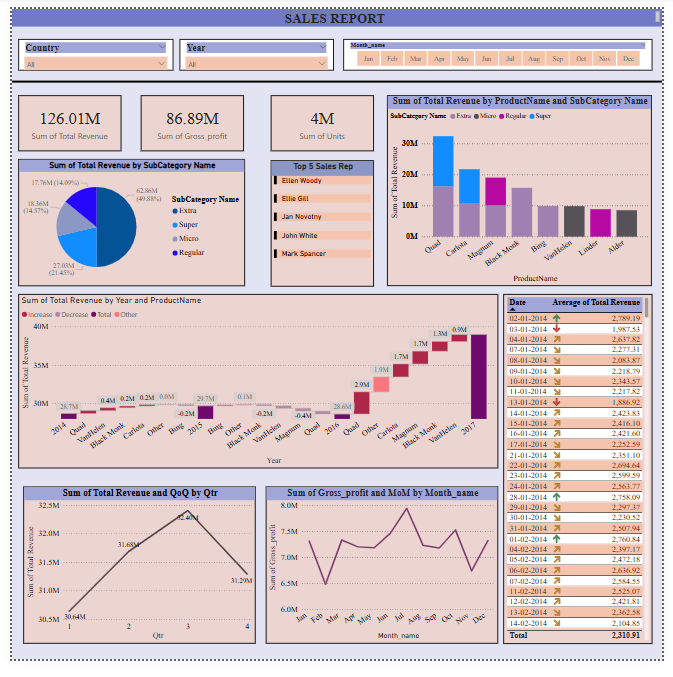

What the dashboard file says about the page in this screenshot:
{"tool":"powerbi","page":{"name":"Page 1","canvas":[1300,1300],"ordinal":0},"visuals":[{"type":"textbox","box":[11,0,1269.3,17.8],"z":0},{"type":"textbox","box":[0,0,1300.2,35.1],"z":1000},{"type":"slicer","fields":{"Values":["Geography.Country"]},"box":[11.5,60.3,310,63.1],"z":2000},{"type":"slicer","fields":{"Values":["DateMaster.Year"]},"box":[335.8,60.3,308.6,63.1],"z":3000},{"type":"slicer","fields":{"Values":["DateMaster.Month_name"]},"box":[661.6,60.3,618.6,63.1],"z":4000},{"type":"card","fields":{"Values":["Sum(Sales.Total Revenue)"]},"box":[11.5,172.2,206.7,111.9],"z":5000},{"type":"card","fields":{"Values":["Sum(Sales.Gross_profit)"]},"box":[258.3,172.2,206.7,111.9],"z":6000},{"type":"card","fields":{"Values":["Sum(Sales.Units)"]},"box":[516.7,172.2,206.7,111.9],"z":7000},{"type":"shape","title":"Top 5 Sales Rep","box":[0,70.3,1300,150.7],"z":8000},{"type":"pieChart","fields":{"Category":["SubCategory.SubCategory Name"],"Y":["Sum(Sales.Total Revenue)"]},"box":[11.5,300,453.5,254],"z":10000},{"type":"multiRowCard","title":"Top 5 Sales Rep","fields":{"Values":["Sales rep.Sales Rep Name"]},"box":[516.7,301.4,206.7,252.6],"z":11000},{"type":"lineChart","fields":{"Category":["DateMaster.Month_name"],"Y":["Sum(Sales.Gross_profit)"]},"box":[506.6,955.8,465,314.3],"z":12000},{"type":"columnChart","fields":{"Series":["SubCategory.SubCategory Name"],"Category":["Product.ProductName"],"Y":["Sum(Sales.Total Revenue)"]},"box":[750.6,172.2,529.6,381.8],"z":13000},{"type":"waterfallChart","fields":{"Breakdown":["Product.ProductName"],"Category":["DateMaster.Year"],"Y":["Sum(Sales.Total Revenue)"]},"box":[11.5,569.8,960.1,348.8],"z":14000},{"type":"lineChart","fields":{"Category":["DateMaster.Qtr"],"Y":["Sum(Sales.Total Revenue)"]},"box":[21.5,955.8,465,314.3],"z":15000},{"type":"tableEx","fields":{"Values":["DateMaster.Date","Avg(Sales.Total Revenue)"]},"box":[981.7,569.8,298.5,700.4],"z":16000}]}

Visuals, with their boxes in screenshot pixels (x1, y1, x2, y2), scaled from the page's 1300x1300 canvas onto the 673x677 screenshot:
textbox: 6:0:663:9
textbox: 0:0:672:18
slicer - Geography.Country: 6:31:166:64
slicer - DateMaster.Year: 174:31:334:64
slicer - DateMaster.Month_name: 343:31:663:64
card - Sum(Sales.Total Revenue): 6:90:113:148
card - Sum(Sales.Gross_profit): 134:90:241:148
card - Sum(Sales.Units): 267:90:374:148
"Top 5 Sales Rep" shape: 0:37:672:115
pieChart - SubCategory.SubCategory Name x Sum(Sales.Total Revenue): 6:156:241:289
"Top 5 Sales Rep" multiRowCard: 267:157:374:289
lineChart - DateMaster.Month_name x Sum(Sales.Gross_profit): 262:498:503:661
columnChart - SubCategory.SubCategory Name x Product.ProductName: 389:90:663:289
waterfallChart - Product.ProductName x DateMaster.Year: 6:297:503:478
lineChart - DateMaster.Qtr x Sum(Sales.Total Revenue): 11:498:252:661
tableEx - DateMaster.Date x Avg(Sales.Total Revenue): 508:297:663:661
